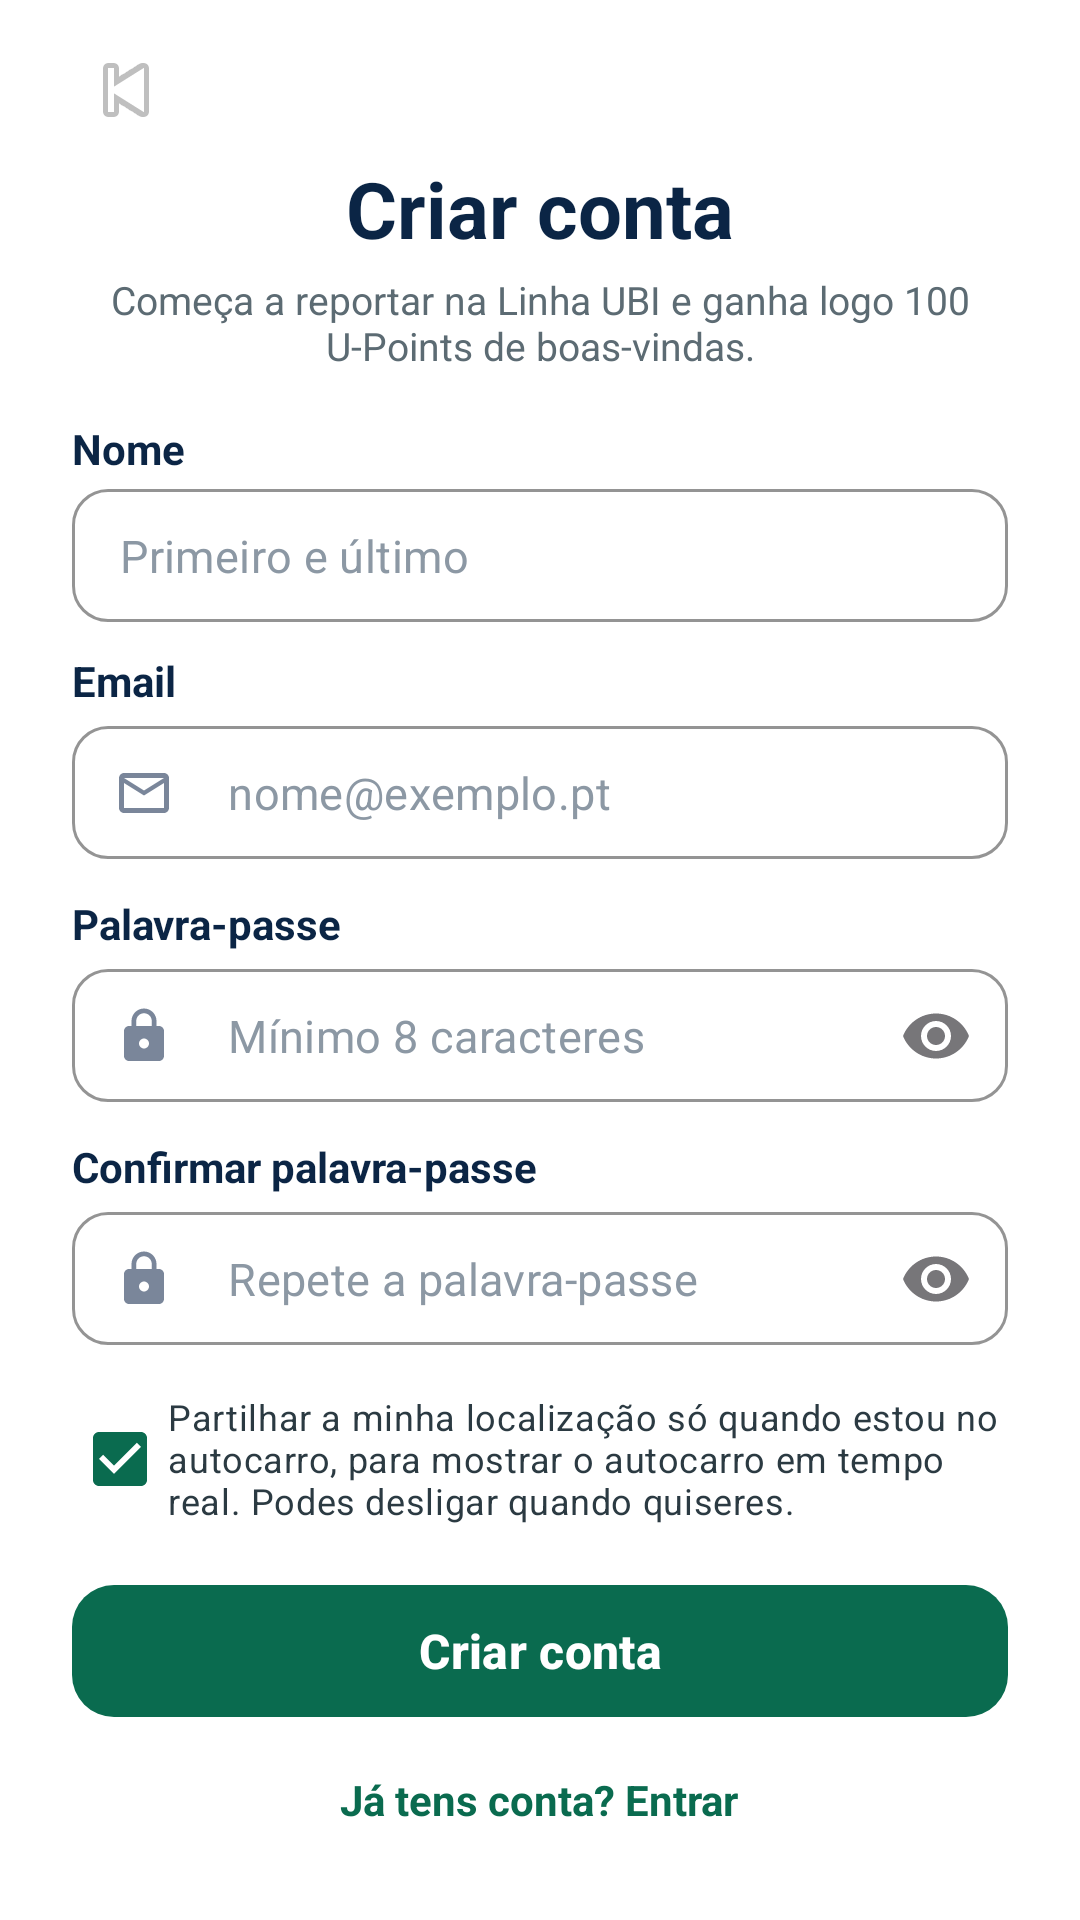

Screen size 1080px×1920px. Icon name, then its center in pixels as point (x, y):
Voltar: point (126, 90)
